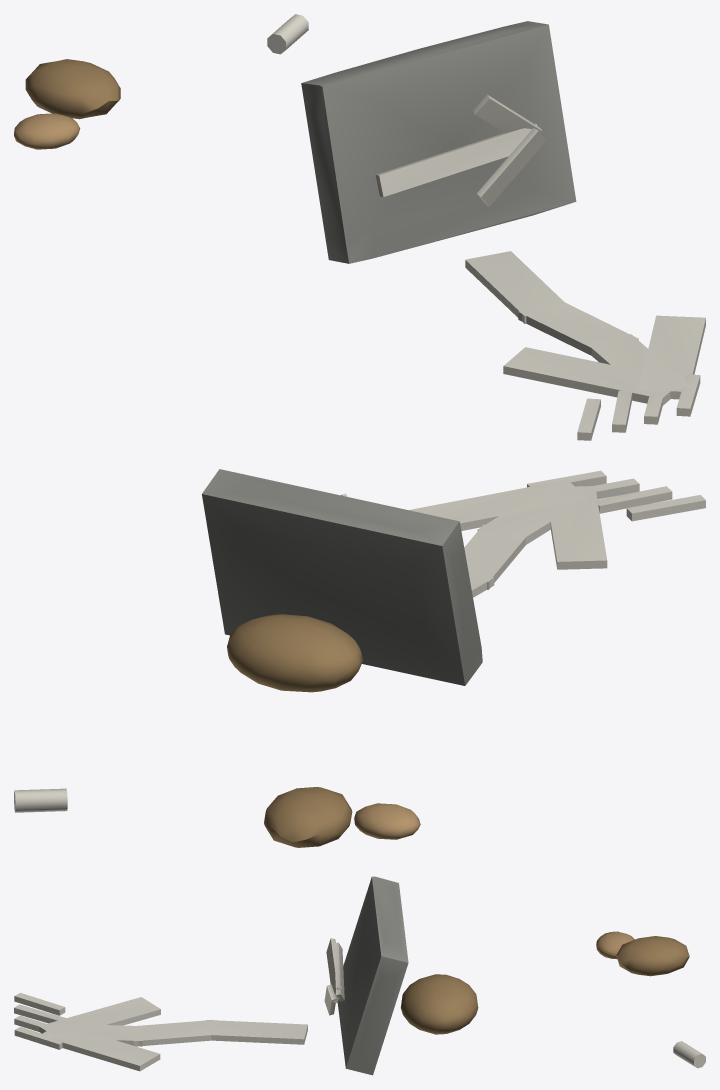
The model's file is chalk_turn_c_lod1.glb.
3 views of the same model, one above another, from view 1: azimuth 30°, elevation 25°; view 2: azimuth 150°, elevation 25°; view 3: azimuth 270°, elevation 25° (orthographic). The views are drawn at different scales.
Visible parts, largest first — view 1: Surface.001; view 2: Surface.001; view 3: Surface.001.
Boxes of the visible parts, <box> form: Surface.001: <box>14,14,705,440</box>; Surface.001: <box>14,469,705,847</box>; Surface.001: <box>14,876,705,1075</box>.
Size of the model in its own units: 2.45 by 1.1 by 5.67.
